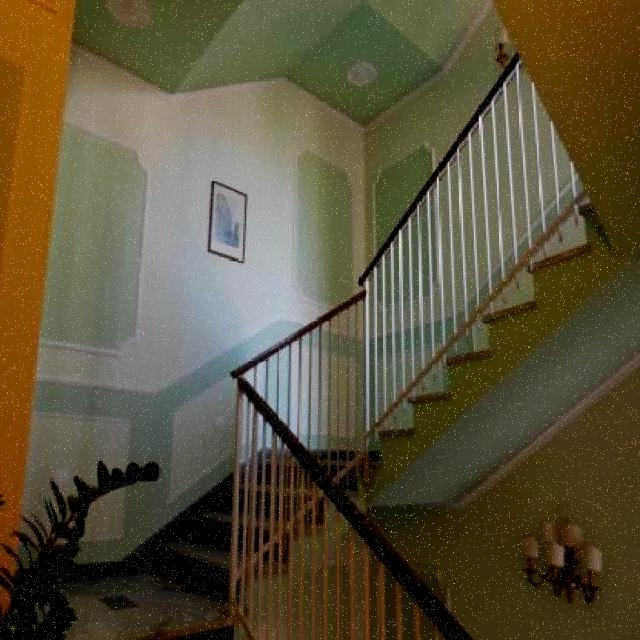stair: (10, 201, 594, 640)
